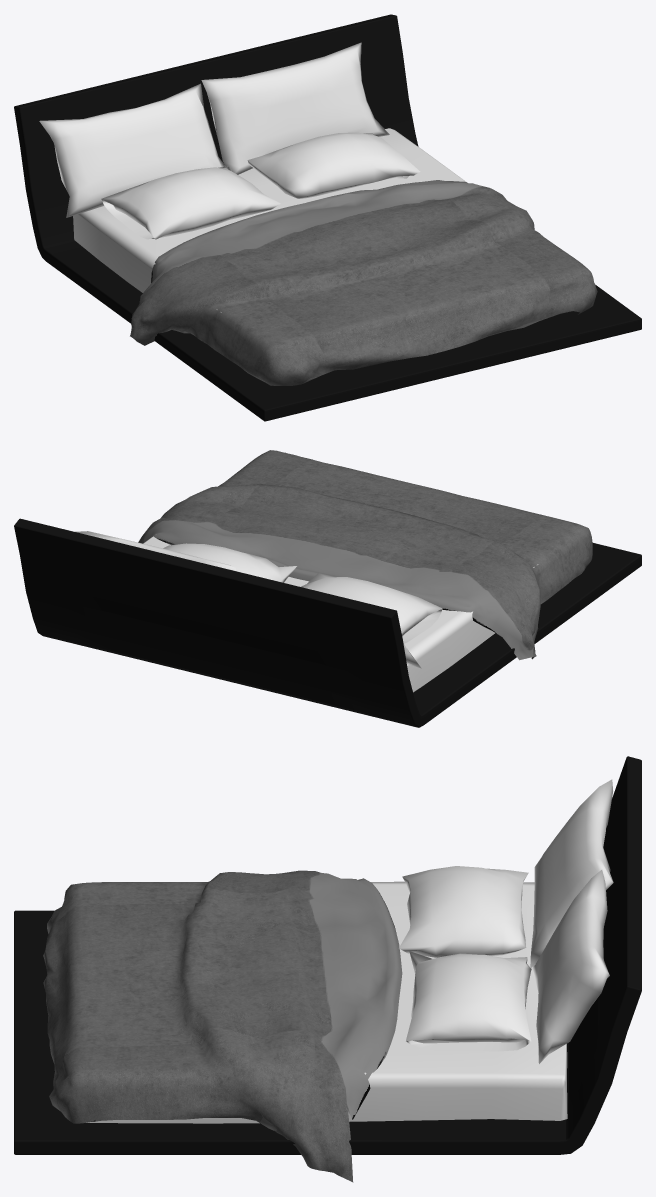
The model's file is poliform_bed.glb.
3 renders of one model, top to bottom at view 1: azimuth 30°, elevation 25°; view 2: azimuth 150°, elevation 25°; view 3: azimuth 270°, elevation 25°, orthographic. The views are drawn at different scales.
Parts seen in each view (by area): view 1: Object_4, Object_3, Object_2; view 2: Object_2, Object_4, Object_3; view 3: Object_4, Object_3, Object_2.
Part boxes in pixels (x1,y1,x2,y2): Object_4: (130, 180, 597, 385); Object_3: (39, 42, 465, 312); Object_2: (14, 14, 641, 421); Object_2: (14, 518, 641, 727); Object_4: (138, 450, 592, 660); Object_3: (75, 531, 538, 692); Object_4: (43, 870, 402, 1182); Object_3: (86, 779, 613, 1123); Object_2: (14, 756, 641, 1154).
Size of the model in its own units: 222 by 81.07 by 240.
3 materials, 3 textured.
